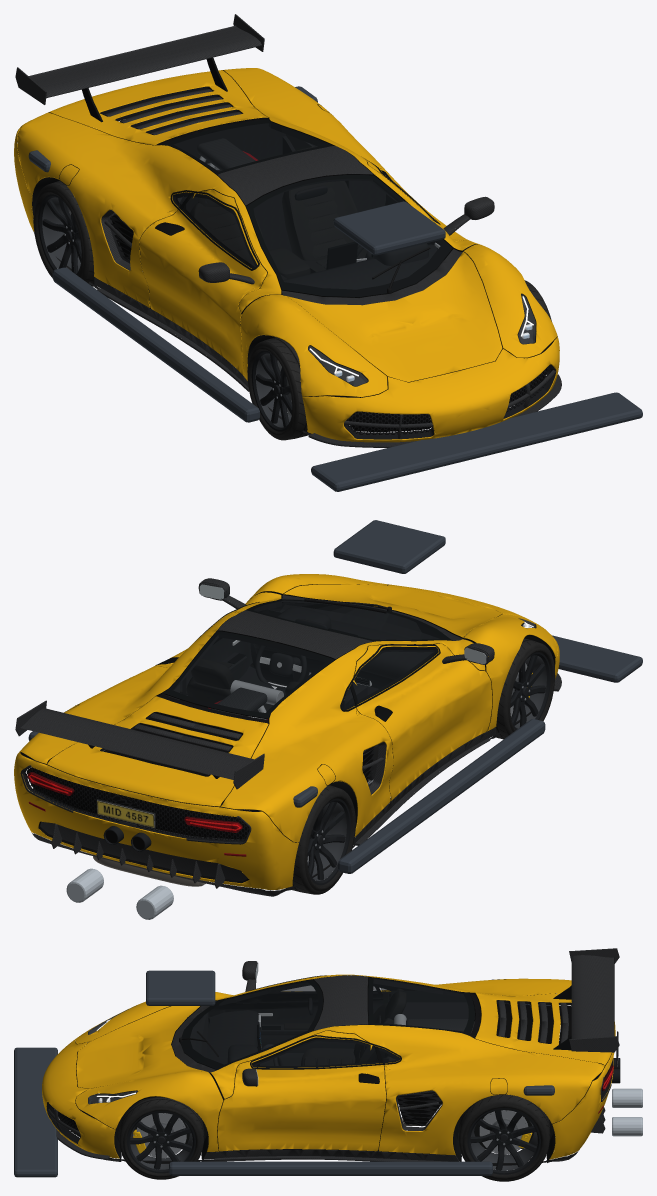
The model's file is car_super.glb.
3 views of the same model, one above another, from view 1: azimuth 30°, elevation 25°; view 2: azimuth 150°, elevation 25°; view 3: azimuth 270°, elevation 25° (orthographic). The views are drawn at different scales.
Visible parts, largest first — view 1: Body, Mod_Splitter, Mod_Skirt_-1, Wheel_FR, Wheel_RR, Mod_Hood; view 2: Body, Mod_Skirt_-1, Wheel_RR, Wheel_FR, Mod_Hood, Mod_Splitter, Steering_Wheel, Mod_Exhaust_1, Mod_Exhaust_-1; view 3: Body, Wheel_RL, Wheel_FL, Mod_Splitter, Mod_Skirt_1, Mod_Hood, Mod_Exhaust_1, Mod_Exhaust_-1, Mod_Wing.
Boxes of the visible parts, x1,y1,x2,y2 form: Body: [14, 14, 561, 447]; Mod_Splitter: [311, 392, 642, 491]; Mod_Skirt_-1: [52, 267, 259, 422]; Wheel_FR: [247, 337, 311, 440]; Wheel_RR: [33, 181, 94, 286]; Mod_Hood: [333, 201, 445, 255]; Body: [14, 574, 561, 896]; Mod_Skirt_-1: [338, 719, 545, 873]; Wheel_RR: [289, 785, 355, 894]; Wheel_FR: [492, 638, 555, 739]; Mod_Hood: [333, 520, 445, 573]; Mod_Splitter: [466, 634, 642, 682]; Steering_Wheel: [255, 645, 306, 688]; Mod_Exhaust_1: [66, 868, 103, 902]; Mod_Exhaust_-1: [136, 885, 173, 919]; Body: [42, 948, 620, 1165]; Wheel_RL: [458, 1094, 550, 1181]; Wheel_FL: [118, 1097, 204, 1179]; Mod_Splitter: [14, 1047, 57, 1177]; Mod_Skirt_1: [169, 1161, 492, 1175]; Mod_Hood: [146, 970, 215, 1005]; Mod_Exhaust_1: [612, 1117, 642, 1136]; Mod_Exhaust_-1: [612, 1088, 642, 1107]; Mod_Wing: [523, 1002, 554, 1095].
Bounding box in the file's own units: 2.27 × 1.23 × 4.85.
61 materials, 12 textured.
